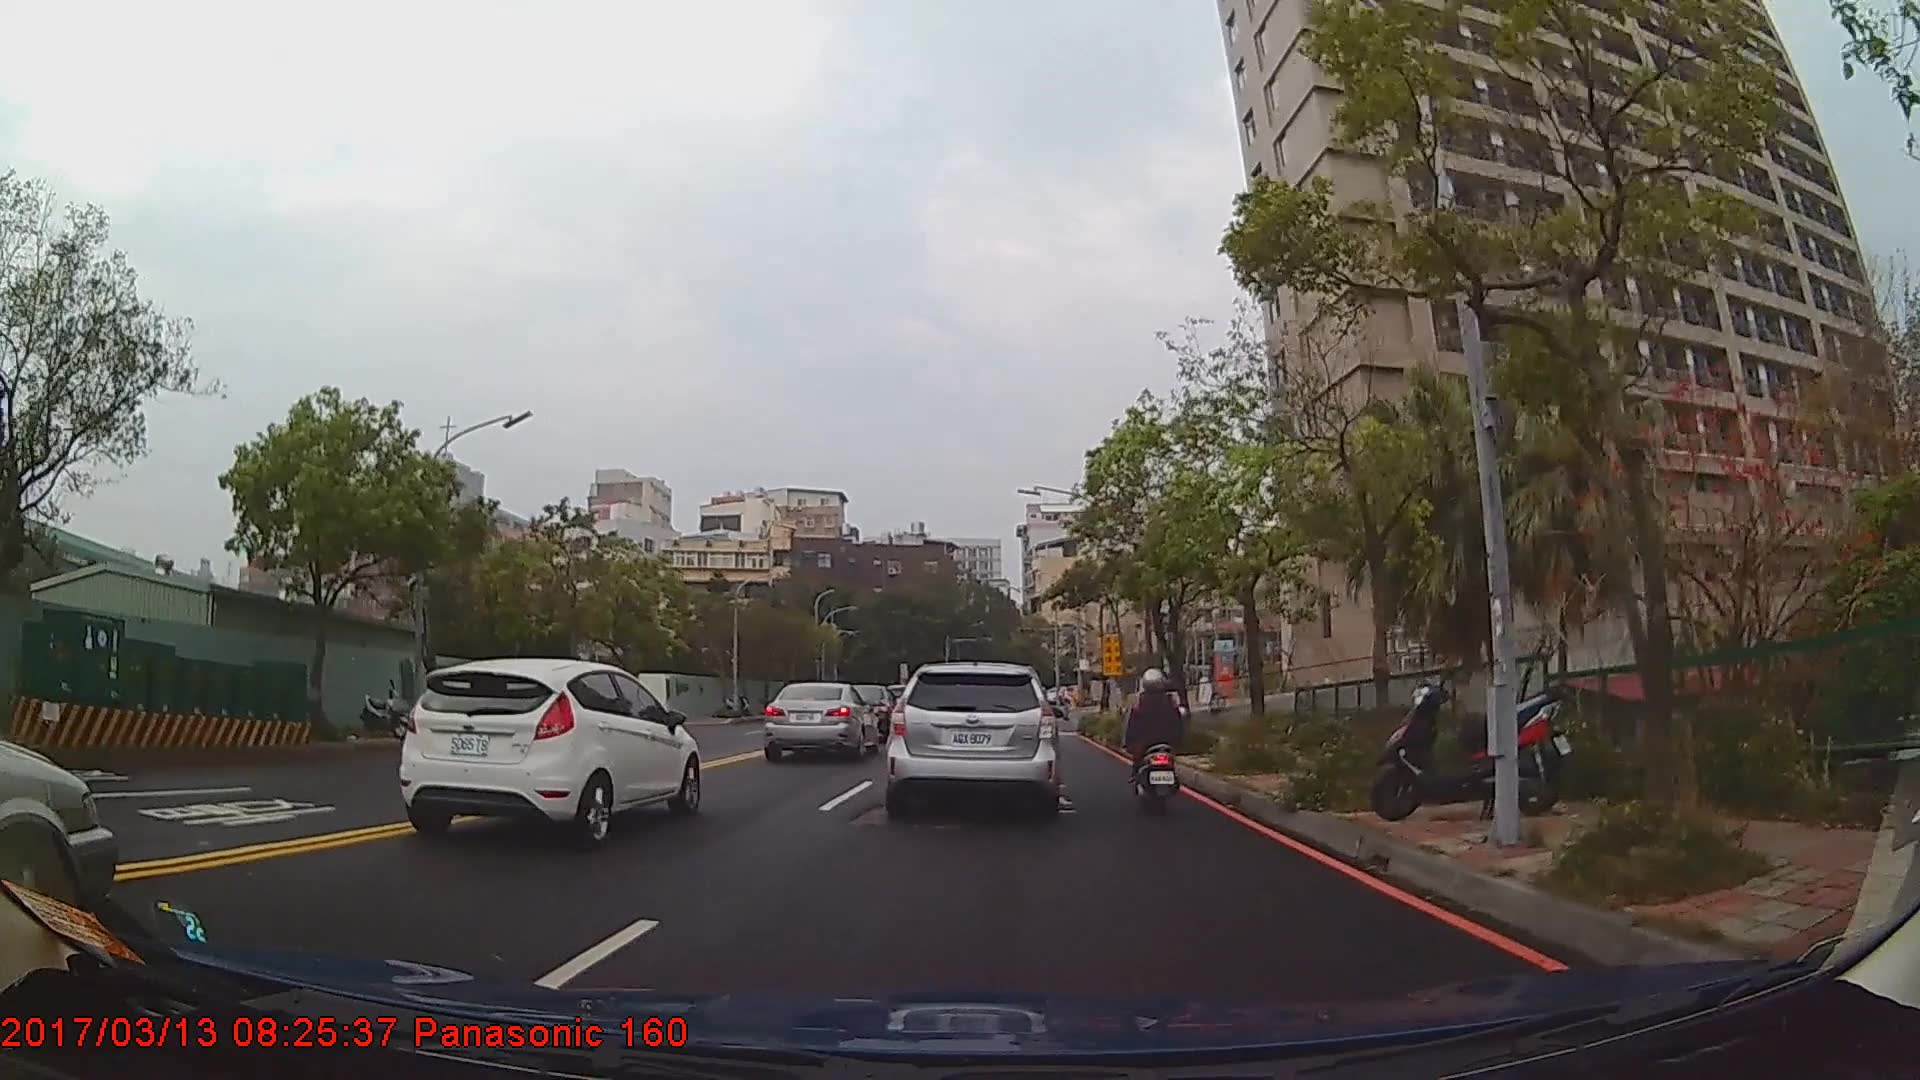rider: (1125, 668, 1185, 816)
vehicle: (399, 657, 698, 845), (886, 661, 1056, 817), (759, 680, 880, 761)
